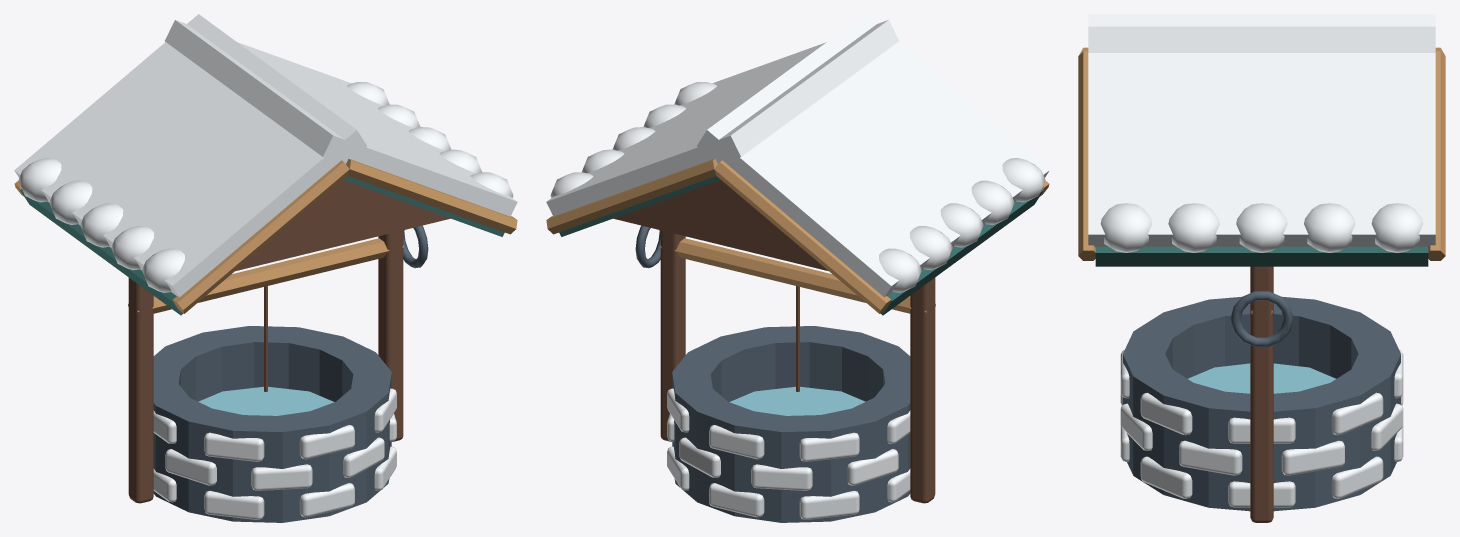
File: alpine-snow-village-frozen-roofed-well-5aa227e8__19810.glb
3 renders of one model, left to right at view 1: azimuth 30°, elevation 25°; view 2: azimuth 150°, elevation 25°; view 3: azimuth 270°, elevation 25°, orthographic. The views are drawn at different scales.
Visible parts, largest first — view 1: frozen-roofed-well-snow, frozen-roofed-well-iron, frozen-roofed-well-wood, frozen-roofed-well-oak, frozen-roofed-well-ice, frozen-roofed-well-pine; view 2: frozen-roofed-well-snow, frozen-roofed-well-iron, frozen-roofed-well-wood, frozen-roofed-well-oak, frozen-roofed-well-ice, frozen-roofed-well-pine; view 3: frozen-roofed-well-snow, frozen-roofed-well-iron, frozen-roofed-well-pine, frozen-roofed-well-wood, frozen-roofed-well-oak, frozen-roofed-well-ice.
Part boxes in pixels (x1=…): frozen-roofed-well-snow: x1=14, y1=14, x2=517, y2=519; frozen-roofed-well-iron: x1=153, y1=225, x2=428, y2=522; frozen-roofed-well-wood: x1=128, y1=180, x2=450, y2=503; frozen-roofed-well-oak: x1=14, y1=159, x2=517, y2=313; frozen-roofed-well-ice: x1=198, y1=386, x2=334, y2=415; frozen-roofed-well-pine: x1=20, y1=176, x2=504, y2=315; frozen-roofed-well-snow: x1=546, y1=14, x2=1049, y2=519; frozen-roofed-well-iron: x1=635, y1=225, x2=910, y2=522; frozen-roofed-well-wood: x1=613, y1=180, x2=935, y2=503; frozen-roofed-well-oak: x1=546, y1=159, x2=1049, y2=313; frozen-roofed-well-ice: x1=729, y1=386, x2=865, y2=415; frozen-roofed-well-pine: x1=559, y1=176, x2=1043, y2=315; frozen-roofed-well-snow: x1=1088, y1=14, x2=1435, y2=507; frozen-roofed-well-iron: x1=1123, y1=291, x2=1400, y2=511; frozen-roofed-well-pine: x1=1095, y1=246, x2=1428, y2=266; frozen-roofed-well-wood: x1=1250, y1=266, x2=1273, y2=522; frozen-roofed-well-oak: x1=1078, y1=47, x2=1445, y2=314; frozen-roofed-well-ice: x1=1188, y1=363, x2=1335, y2=393.
Bounding box in the file's own units: 3.16 × 3.26 × 2.51.
